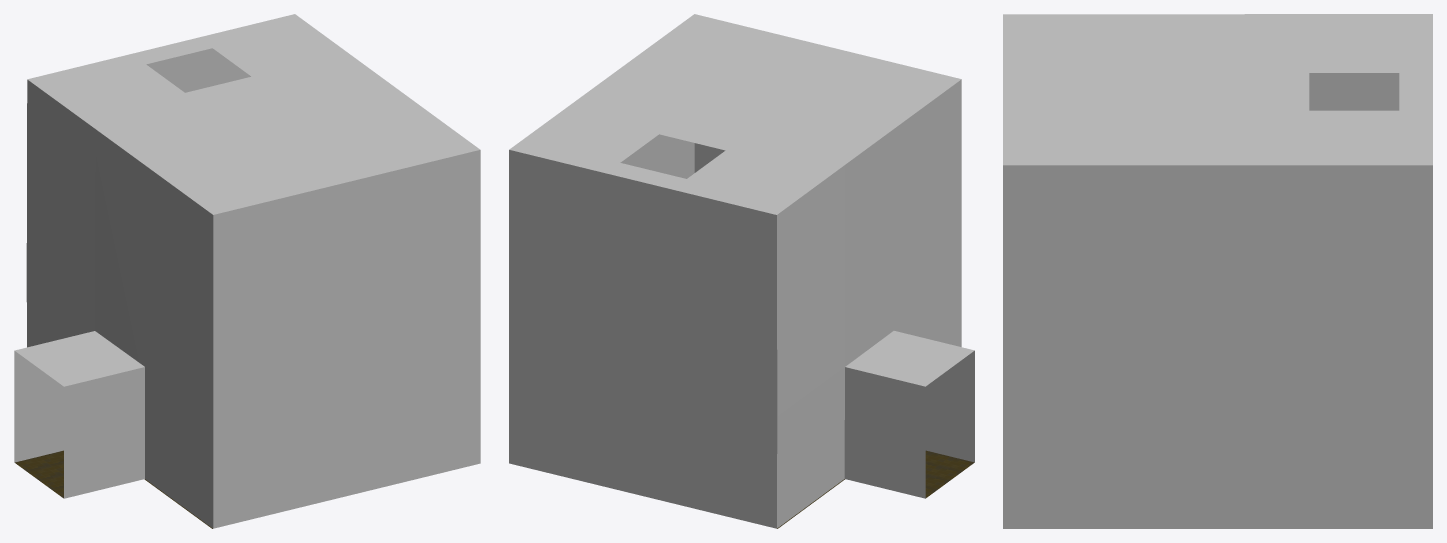
Rendered from RoomChico.fbx.
3 renders of one model, left to right at view 1: azimuth 30°, elevation 25°; view 2: azimuth 150°, elevation 25°; view 3: azimuth 270°, elevation 25°, orthographic. The views are drawn at different scales.
Visible parts, largest first — view 1: WallChico, Roof, FloorChico; view 2: WallChico, Roof, FloorChico; view 3: WallChico, Roof.
Part boxes in pixels (box(x1,y1,x2,y2)): WallChico: box(14, 48, 480, 528); Roof: box(27, 14, 479, 214); FloorChico: box(15, 450, 212, 528); WallChico: box(509, 79, 974, 528); Roof: box(509, 14, 961, 214); FloorChico: box(777, 450, 974, 528); WallChico: box(1003, 73, 1432, 528); Roof: box(1003, 14, 1432, 165).
Size of the model in its own units: 1627 by 1400 by 1500.
